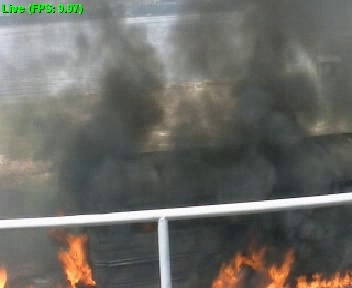fire: (222, 254, 352, 288), (68, 245, 89, 281)
smoke: (86, 73, 144, 211), (160, 160, 341, 193)
